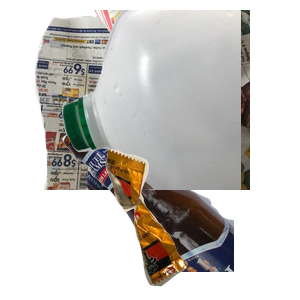glass: (60, 120, 300, 300)
paper: (32, 10, 272, 190)
plastic: (60, 10, 300, 190)
trash: (103, 147, 300, 300)
